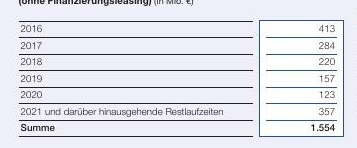table: (0, 0, 357, 148)
